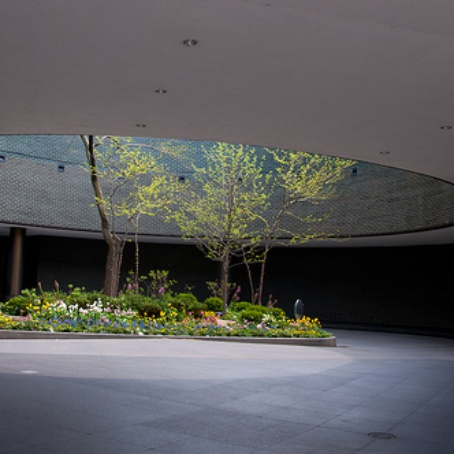tree: (173, 137, 259, 340), (77, 126, 169, 295), (258, 144, 346, 305)
